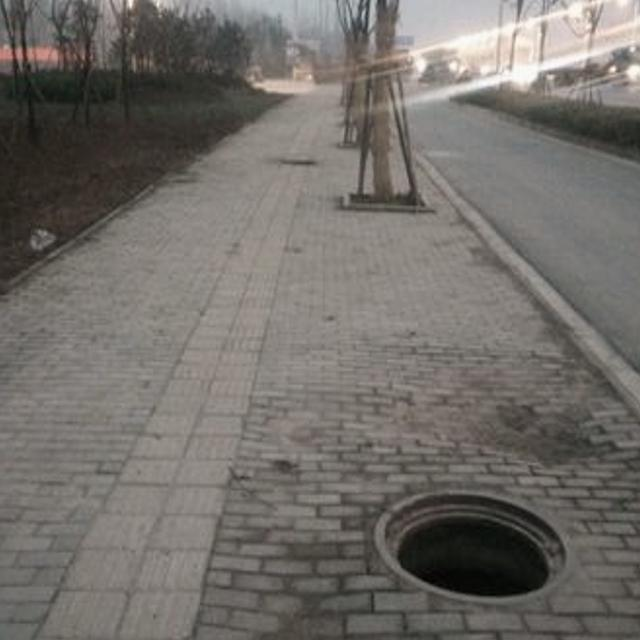lose: (349, 465, 590, 632)
